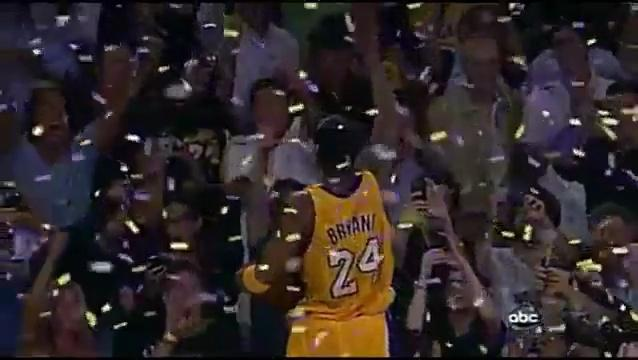Person: (226, 103, 423, 360)
